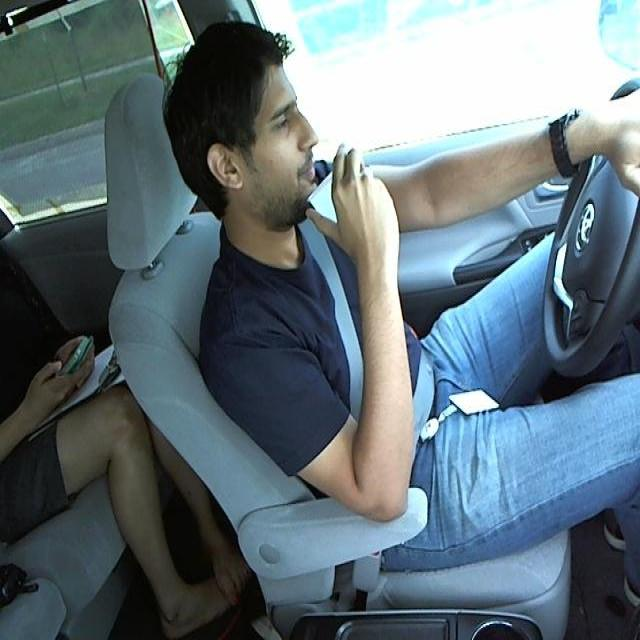Seatbelt: (314, 148, 391, 239)
